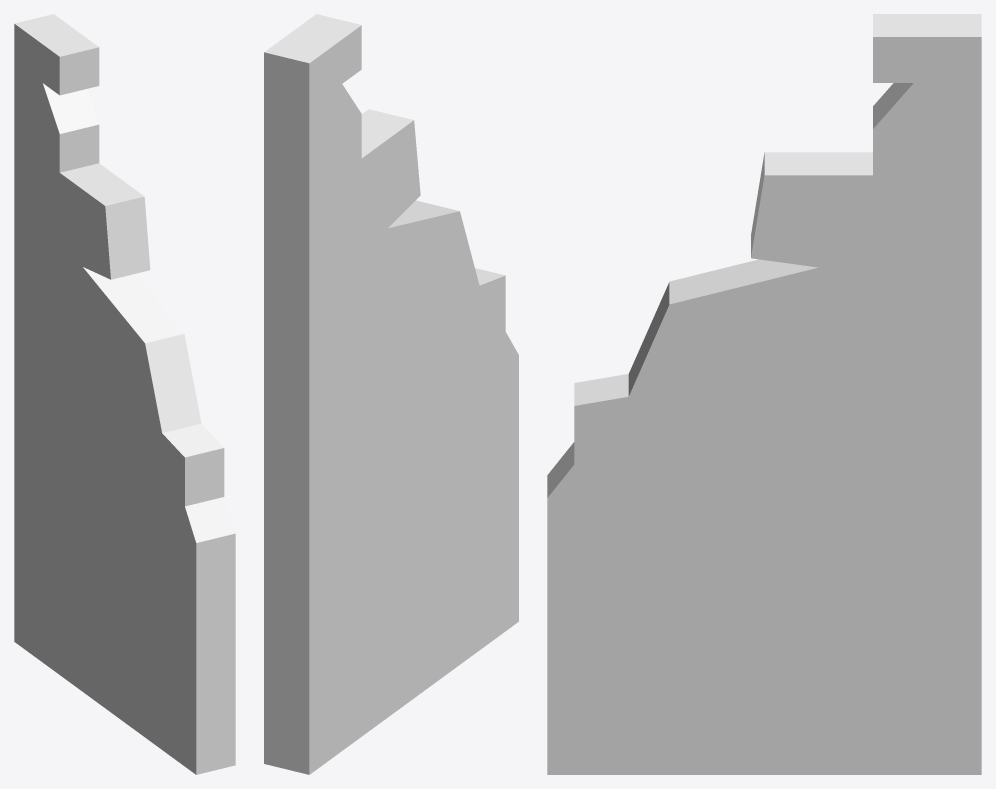
3 views of the same model, side by side, from view 1: azimuth 30°, elevation 25°; view 2: azimuth 150°, elevation 25°; view 3: azimuth 270°, elevation 25° (orthographic). The views are drawn at different scales.
Size of the model in its own units: 16 by 240 by 128.
Materials: 1 (1 with a texture image).
